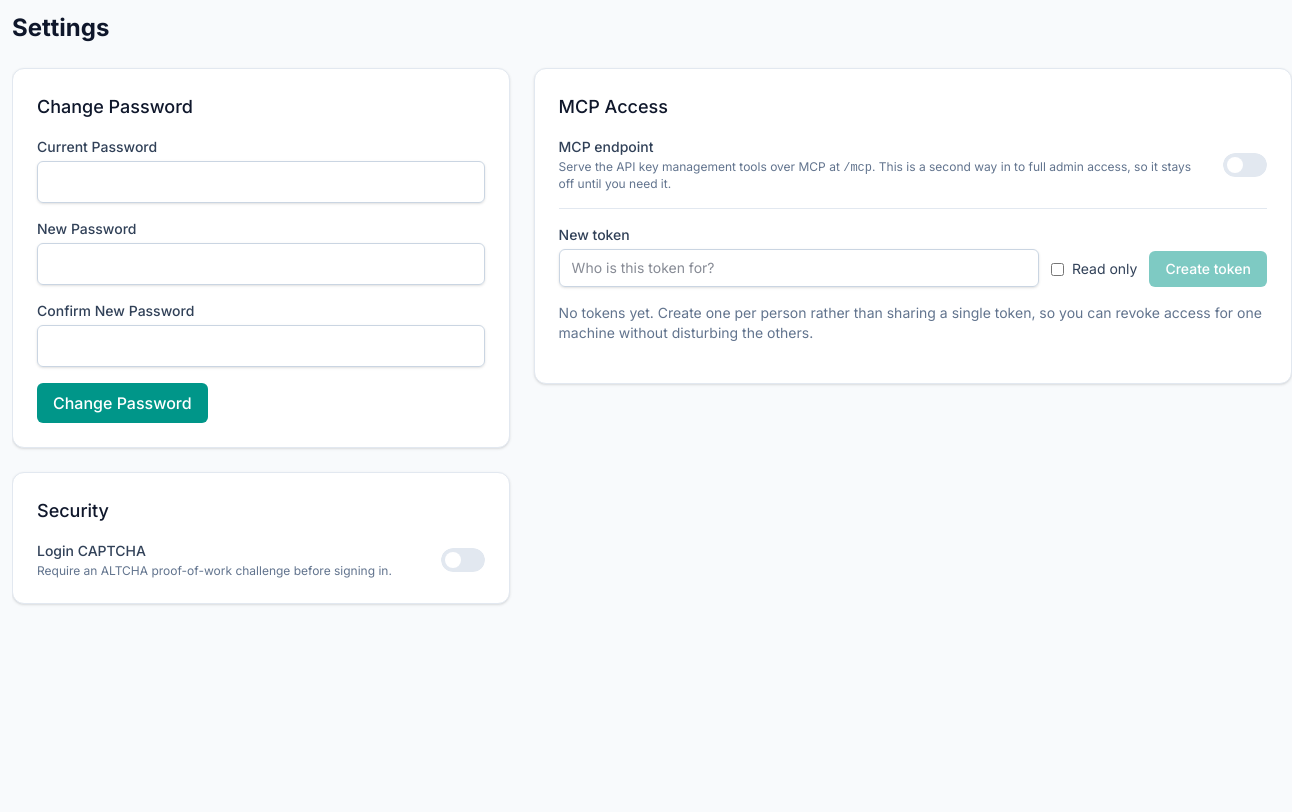
SettingsView › reverts captcha toggle on error
This screenshot has width=1292, height=812.
What coordinates should you click on to do the following:
click the checkbox with id "loginCaptchaToggle"
I would click on:
 (261, 560)
Its box is [37,541,485,579].
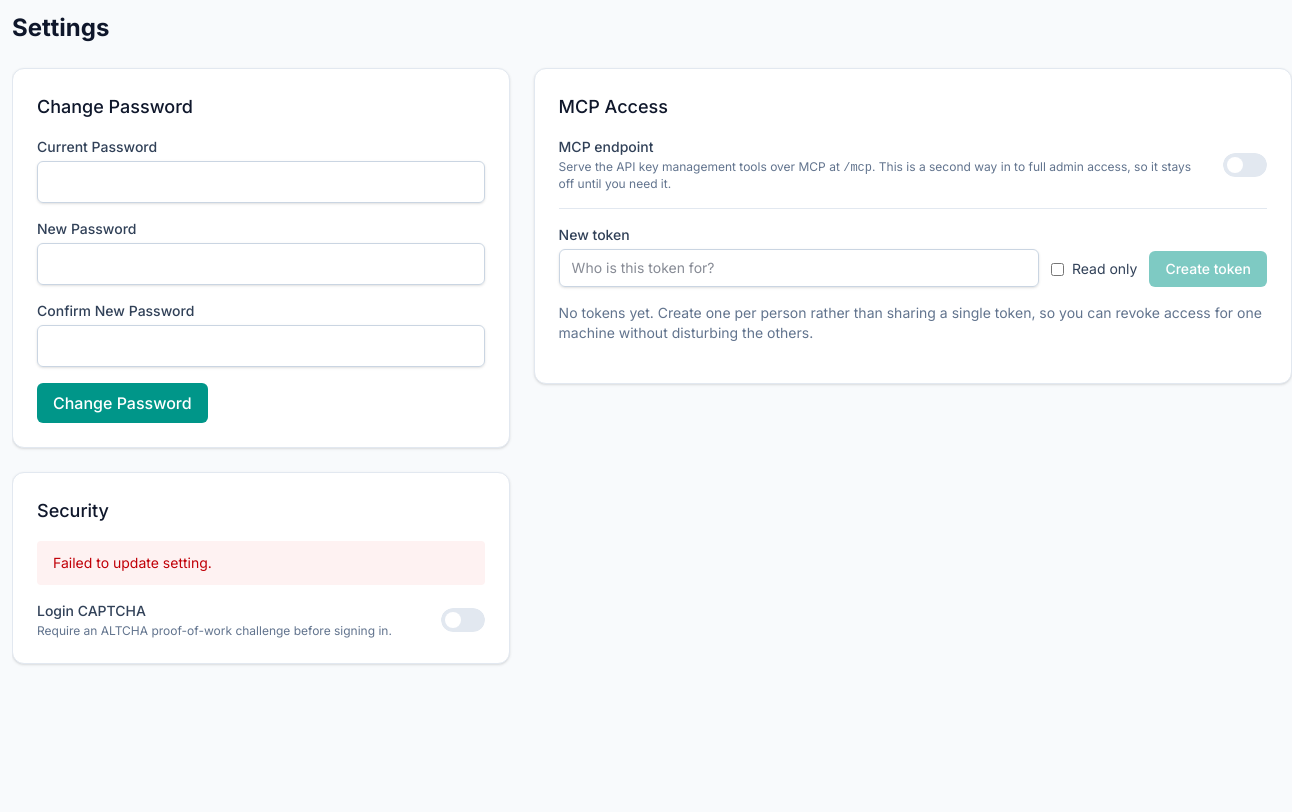
Expected: the text "Failed to update setting" is shown, [53,554,212,571]
